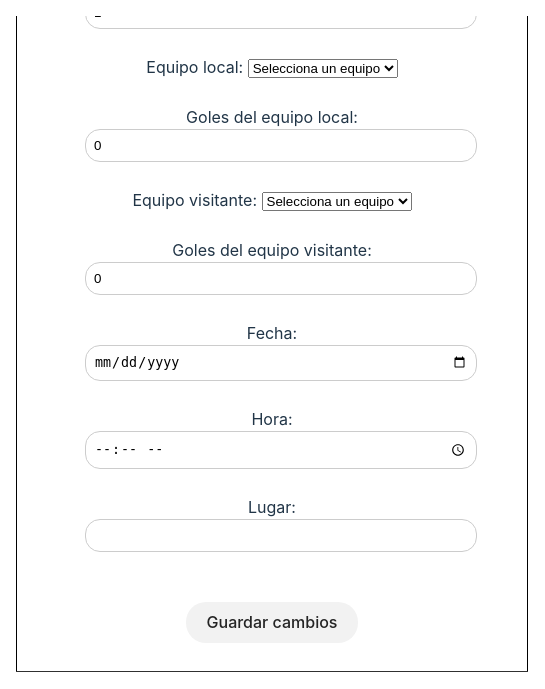
Test: AdminModalResults Component › Input Validation and Error Messages › shows error message for empty hour field
The image size is (545, 689).
(page scrolled)
Step 1. Click the button "Guardar cambios" → (272, 622), box [186,601,358,643]
(page scrolled)
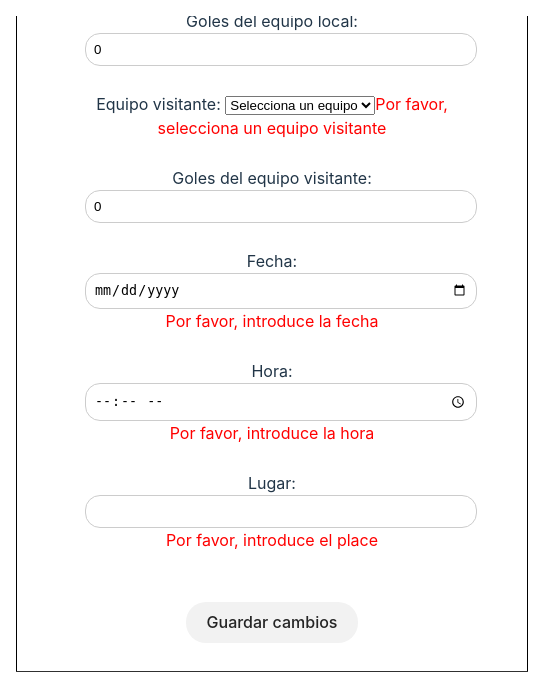
expect the text "Por favor, introduce la hora" is shown: met, box [170,422,374,442]
